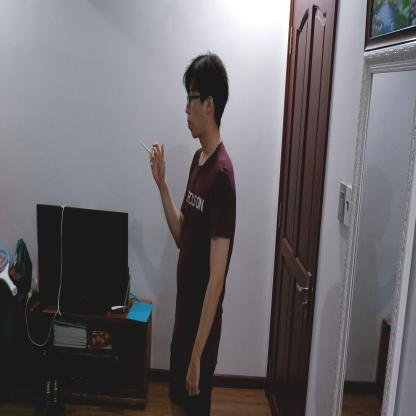cigarette: (140, 140, 152, 156)
person: (151, 49, 238, 415)
